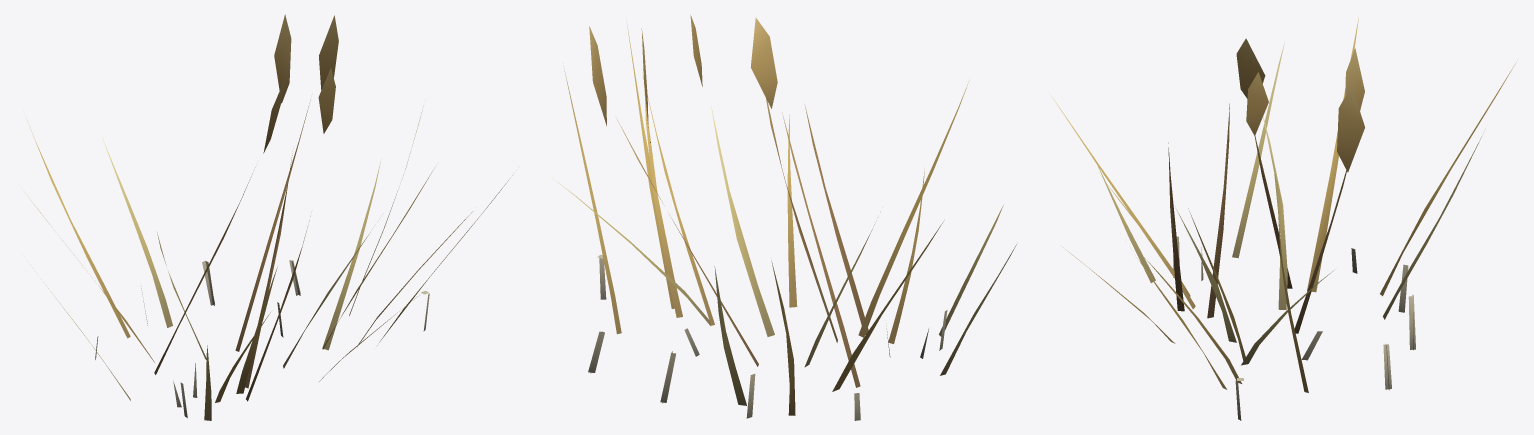
Rendered from GoldenSparseGrass_LOD0.glb.
3 renders of one model, left to right at view 1: azimuth 30°, elevation 25°; view 2: azimuth 150°, elevation 25°; view 3: azimuth 270°, elevation 25°, orthographic. The views are drawn at different scales.
Visible parts, largest first — view 1: GoldenSparseGrass_LOD0; view 2: GoldenSparseGrass_LOD0; view 3: GoldenSparseGrass_LOD0.
Part boxes in pixels (x1=…): GoldenSparseGrass_LOD0: x1=22, y1=14, x2=512, y2=420; GoldenSparseGrass_LOD0: x1=555, y1=14, x2=1016, y2=420; GoldenSparseGrass_LOD0: x1=1051, y1=17, x2=1516, y2=420.
Size of the model in its own units: 0.3335 by 0.2251 by 0.295.
